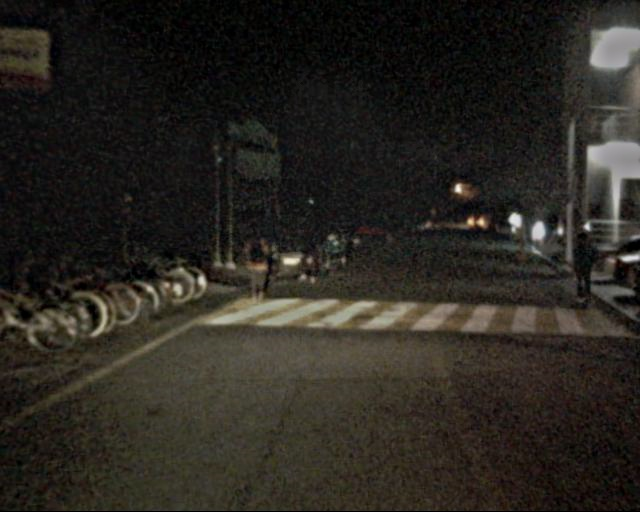person: (566, 236, 599, 317), (241, 227, 274, 307), (297, 219, 327, 285)
